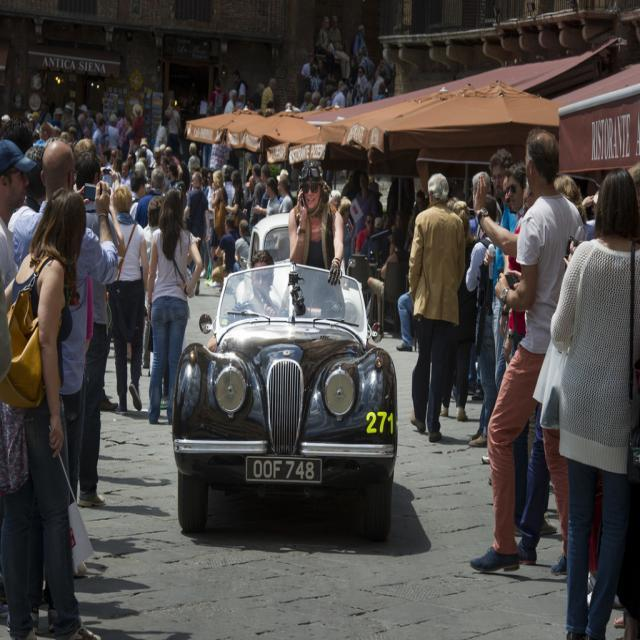truck: (166, 243, 402, 541), (232, 214, 366, 332)
